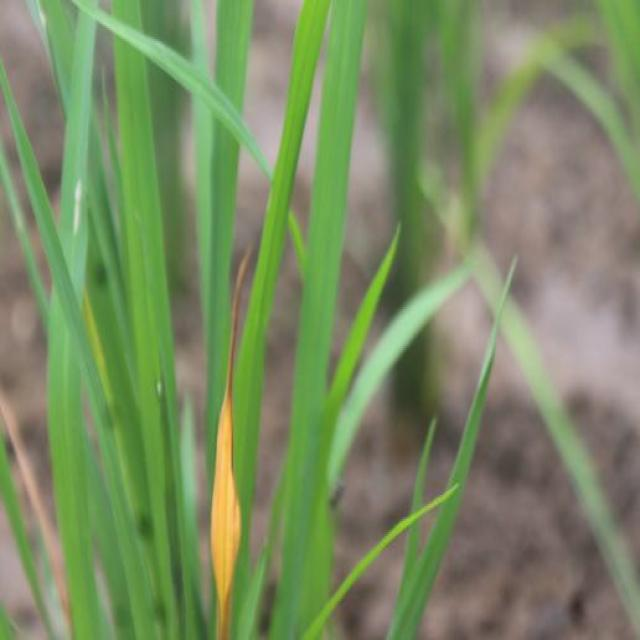Tungro: (198, 235, 262, 640)
